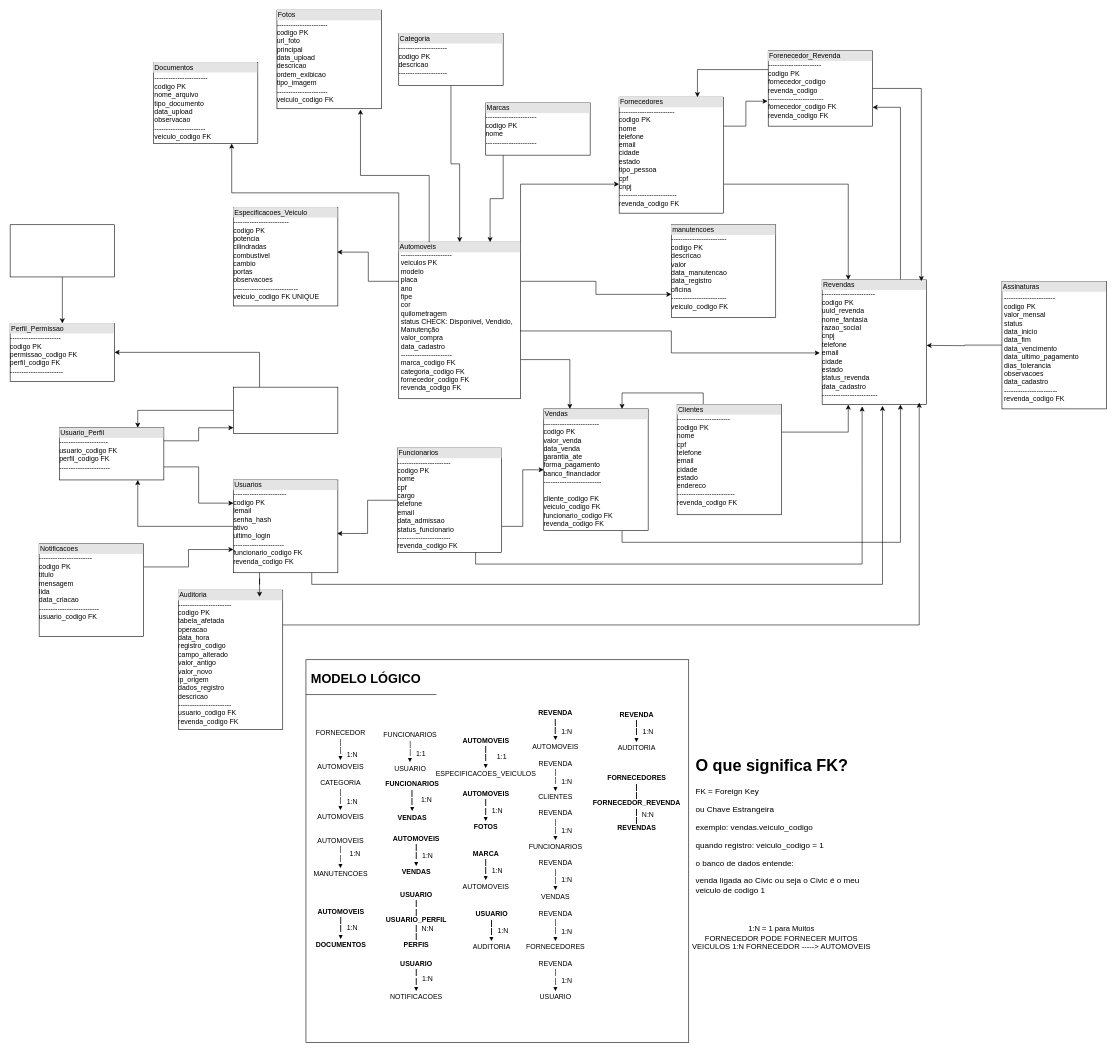
Some shapes in this 1117 by 1053 pixel diagram are drawn without their labels. Each missing label, with the centre of its shape:
Perfis ---------------------- codigo PK nome ---------------------: (x=285, y=410)
Permissoes ---------------------- codigo PK descricao -----------------------: (x=62, y=250)
